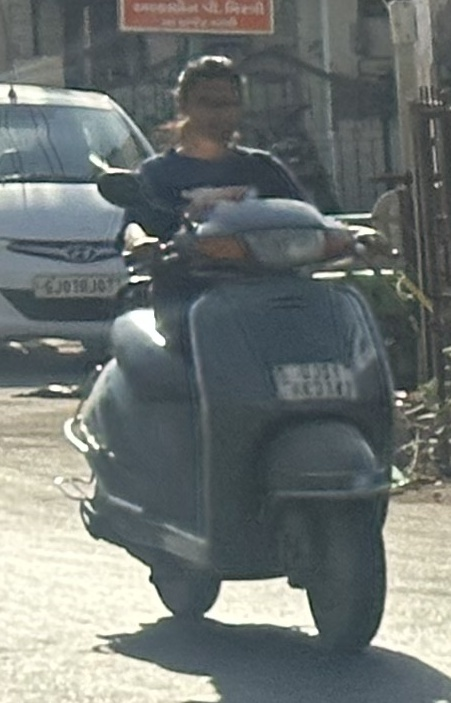BikeWithRider: (46, 46, 418, 664)
NoHelmet: (161, 49, 257, 159)
